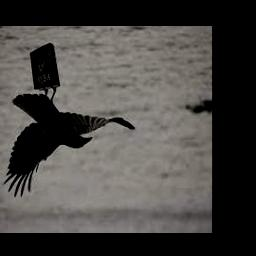Crow: (3, 87, 136, 198)
